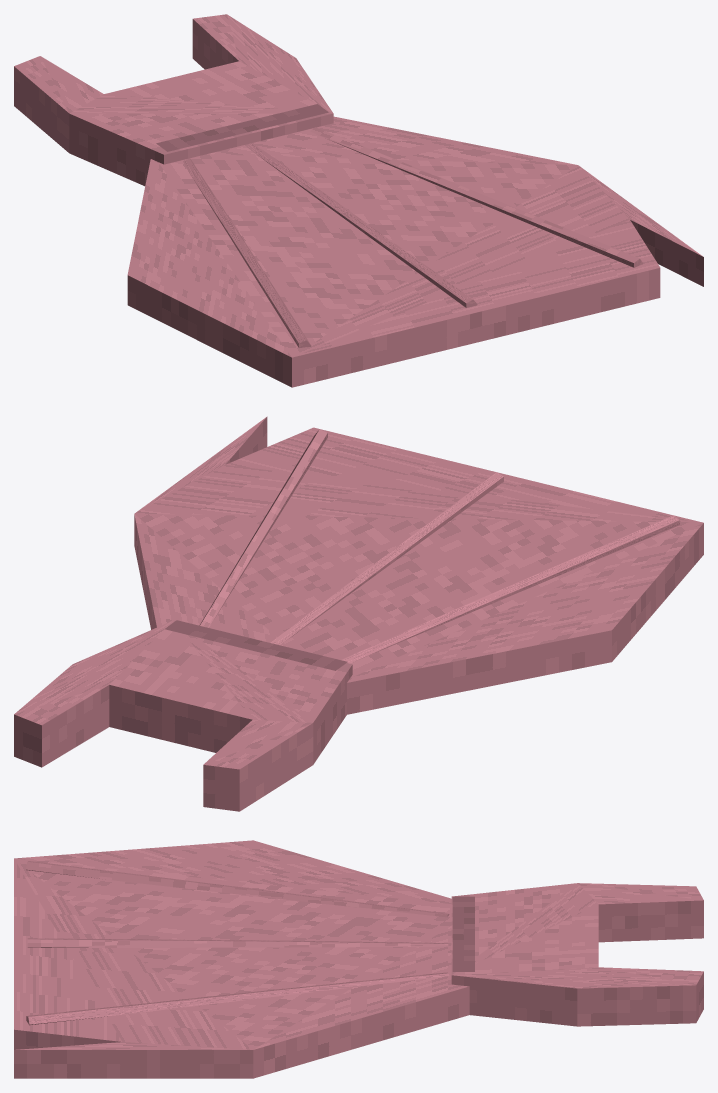
File: long_dress.glb
3 renders of one model, top to bottom at view 1: azimuth 30°, elevation 25°; view 2: azimuth 150°, elevation 25°; view 3: azimuth 270°, elevation 25°, orthographic. The views are drawn at different scales.
Parts seen in each view (by area): view 1: block_skirt panel, block_fitted bodice, block_fabric fold 1 (×3), block_fabric fold 0 (×3), block_gathered waist; view 2: block_skirt panel, block_fitted bodice, block_fabric fold 1 (×3), block_fabric fold 0 (×3), block_gathered waist; view 3: block_skirt panel, block_fitted bodice, block_fabric fold 1 (×3), block_fabric fold 0 (×3), block_gathered waist.
Boxes of the visible parts, <box> form: block_skirt panel: <box>127,116,703,387</box>; block_fitted bodice: <box>14,14,333,186</box>; block_fabric fold 1 (×3): <box>228,178,643,347</box>; block_fabric fold 0 (×3): <box>183,127,440,233</box>; block_gathered waist: <box>156,104,328,151</box>; block_skirt panel: <box>134,416,703,714</box>; block_fitted bodice: <box>14,620,352,811</box>; block_fabric fold 1 (×3): <box>241,429,679,612</box>; block_fabric fold 0 (×3): <box>199,553,469,663</box>; block_gathered waist: <box>164,620,347,670</box>; block_skirt panel: <box>14,840,469,1078</box>; block_fitted bodice: <box>451,883,703,1026</box>; block_fabric fold 1 (×3): <box>26,861,285,1025</box>; block_fabric fold 0 (×3): <box>283,893,449,995</box>; block_gathered waist: <box>452,896,474,971</box>.
Size of the model in its own units: 0.5855 by 0.0515 by 0.8147.
1 material, 1 textured.
